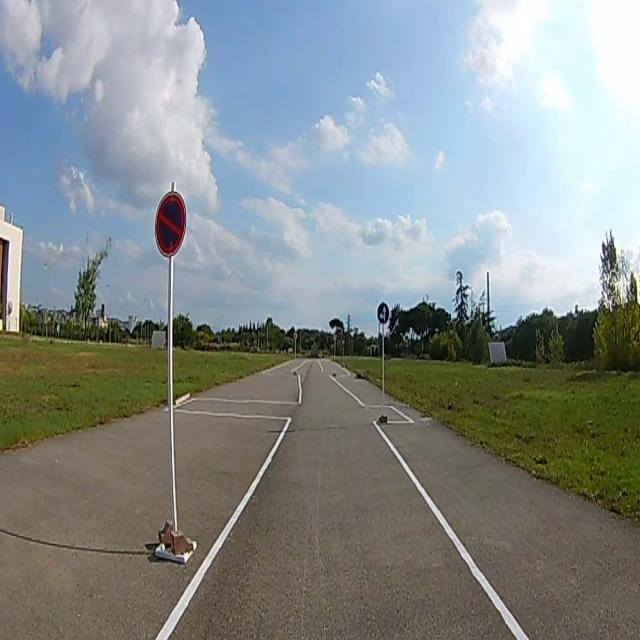ilerisol: (378, 302, 388, 326)
parkyasak: (154, 192, 186, 256)
